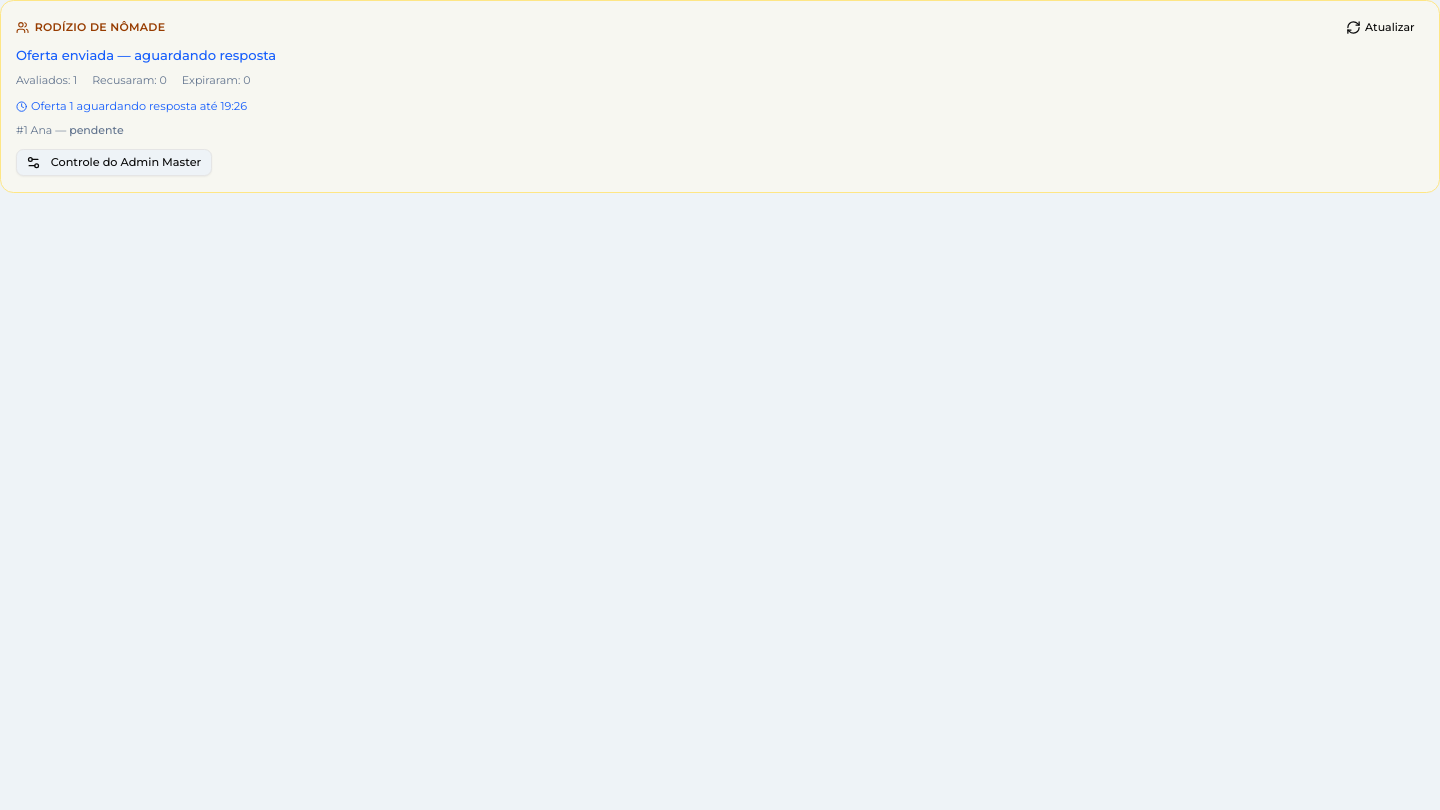
Test: Admin Master vê e abre os controles de encaminhamento
This screenshot has width=1440, height=810.
Click the button "Controle do Admin Master".
click(114, 163)  # box [16,149,212,176]
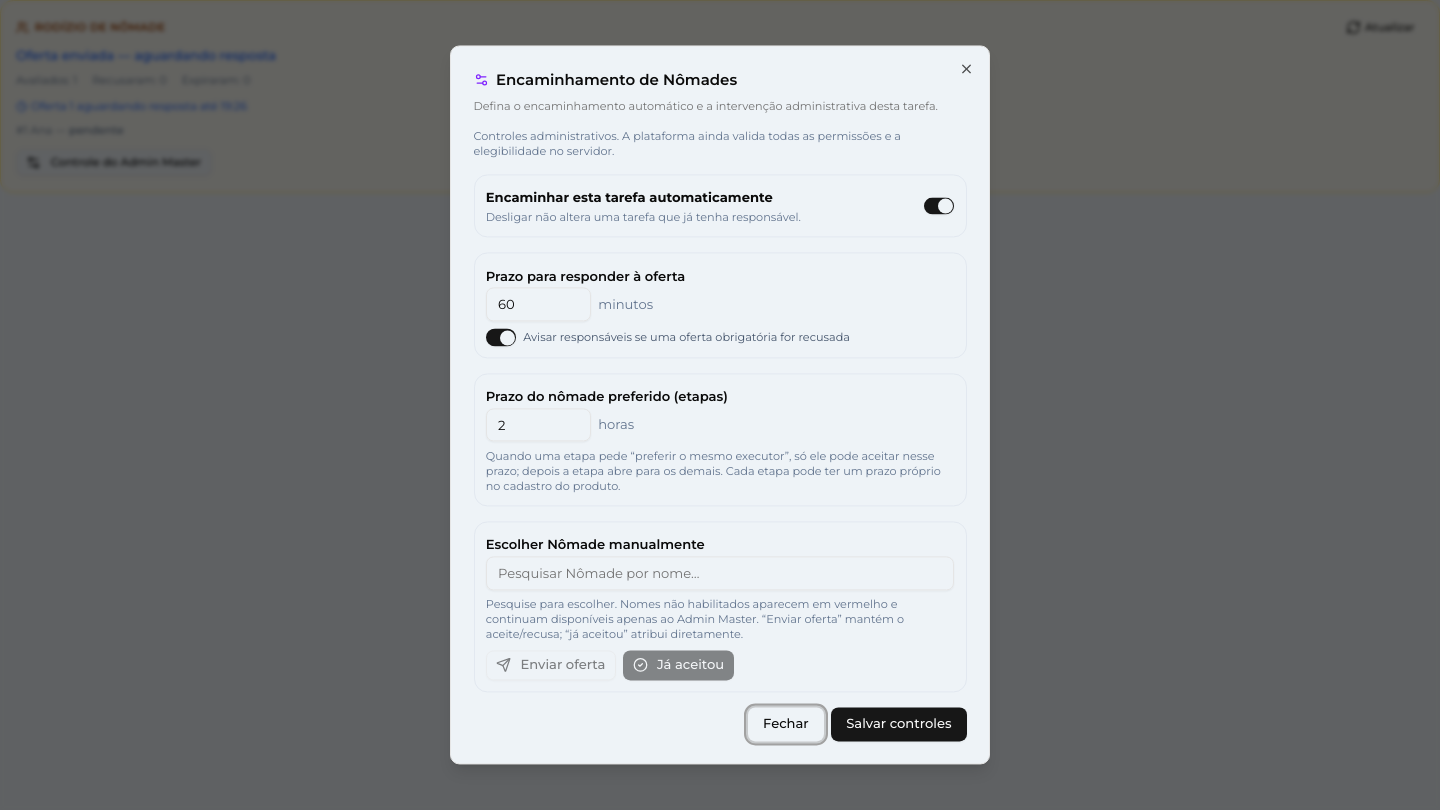
expect the heading "Encaminhamento de Nômades" is shown: met, box [474,70,737,89]
expect the text "Escolher Nômade manualmente" is shown: met, box [486,537,705,553]
